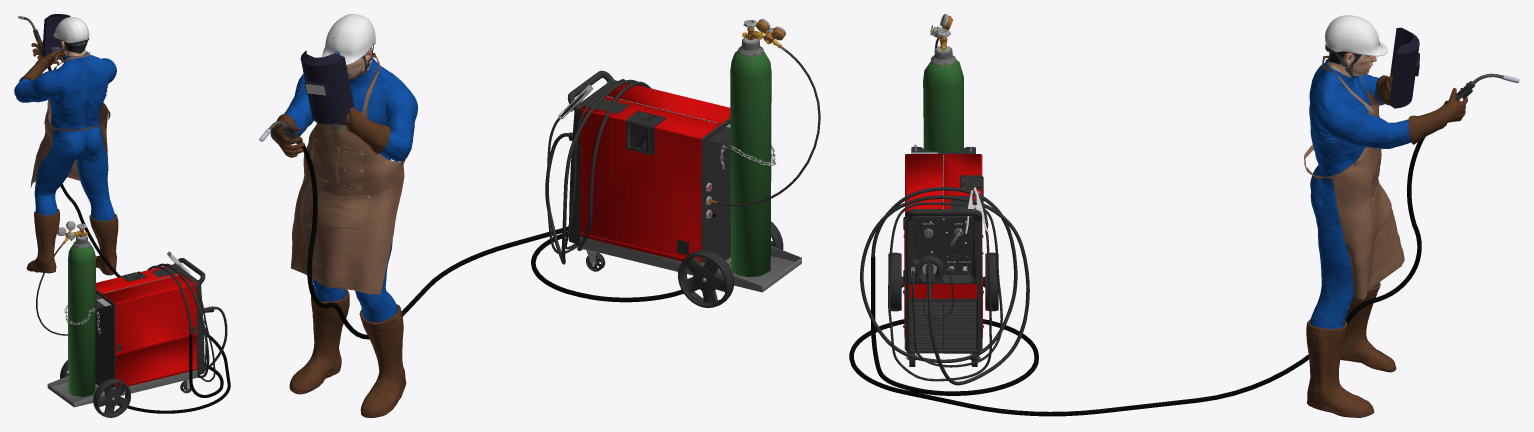
Rendered from welder.glb.
The picture shows the model from 3 angles, left to right: view 1: azimuth 30°, elevation 25°; view 2: azimuth 150°, elevation 25°; view 3: azimuth 270°, elevation 25°; orthographic projection. The views are drawn at different scales.
Parts seen in each view (by area): view 1: Object_17, Object_93, Object_63, Object_597, Object_10, Object_4, Object_67, Object_27, Object_12, Object_33, Object_771; view 2: Object_93, Object_27, Object_63, Object_597, Object_10, Object_17, Object_4, Object_67, Object_771, Object_12, Object_33, Object_327; view 3: Object_63, Object_17, Object_10, Object_27, Object_4, Object_93, Object_597, Object_12, Object_771, Object_67, Object_6, Object_33.
Part boxes in pixels (x1,y1,x2,y2): Object_17: [14, 51, 116, 220]; Object_93: [96, 265, 197, 387]; Object_63: [33, 29, 227, 417]; Object_597: [68, 244, 95, 396]; Object_10: [19, 40, 118, 275]; Object_4: [48, 66, 230, 413]; Object_67: [47, 235, 197, 407]; Object_27: [30, 52, 110, 187]; Object_12: [53, 17, 89, 57]; Object_33: [58, 221, 196, 400]; Object_771: [42, 14, 70, 60]; Object_93: [580, 80, 730, 263]; Object_27: [291, 53, 405, 294]; Object_63: [281, 50, 820, 307]; Object_597: [730, 50, 771, 277]; Object_10: [270, 107, 406, 417]; Object_17: [272, 57, 417, 322]; Object_4: [301, 145, 715, 339]; Object_67: [580, 22, 801, 292]; Object_771: [300, 50, 354, 124]; Object_12: [322, 14, 375, 79]; Object_33: [581, 18, 785, 281]; Object_327: [709, 20, 786, 203]; Object_63: [860, 38, 1475, 385]; Object_17: [1309, 58, 1449, 328]; Object_10: [1306, 74, 1467, 417]; Object_27: [1304, 55, 1404, 299]; Object_4: [849, 137, 1424, 416]; Object_93: [904, 154, 982, 337]; Object_597: [923, 60, 963, 152]; Object_12: [1325, 15, 1387, 77]; Object_771: [1389, 27, 1419, 108]; Object_67: [904, 25, 982, 349]; Object_6: [1326, 52, 1376, 77]; Object_33: [905, 14, 980, 359].
Bounding box in the file's own units: 1.57 × 1.78 × 2.89.
26 materials, 7 textured.
